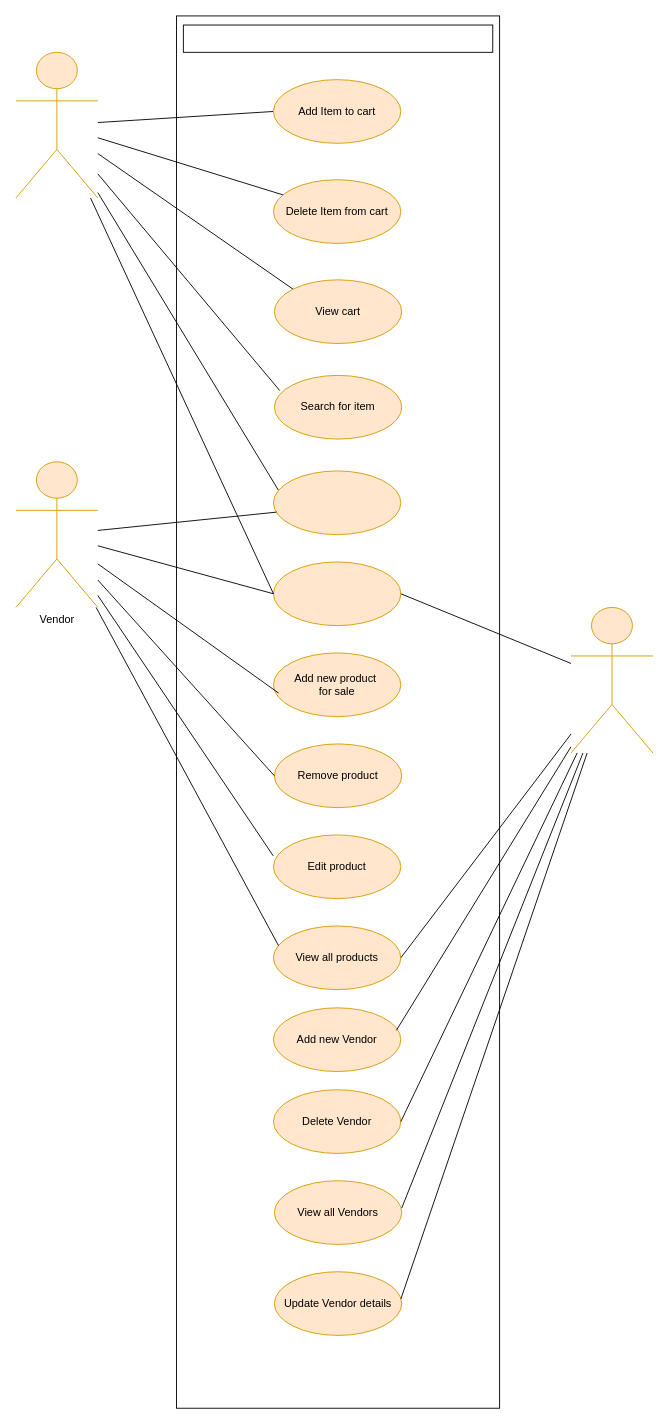
This 669x1424 diagram has some shape labels left out. The centre of each missing label's shape, as x and y in pixels:
Admin: point (611, 680)
Buyer: point (56, 124)
Ecommerce Application: point (337, 38)
Edit user details: point (337, 502)
Log in/out: point (337, 593)
